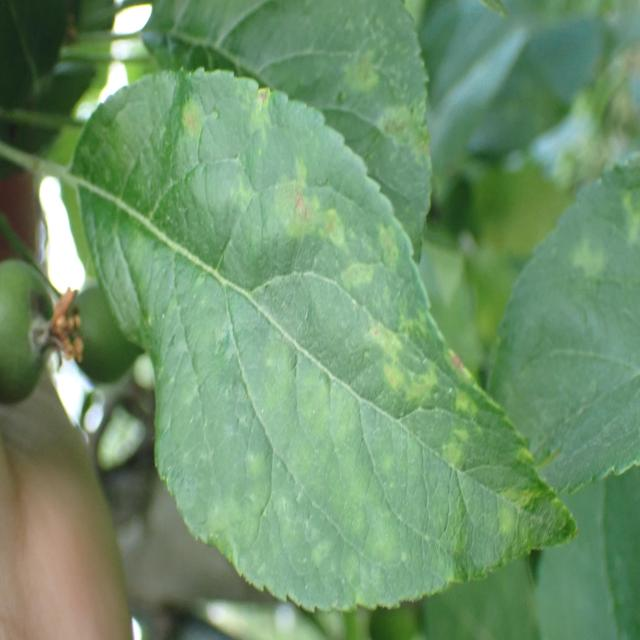scab: (140, 64, 550, 588), (332, 22, 486, 218), (548, 151, 640, 355)
